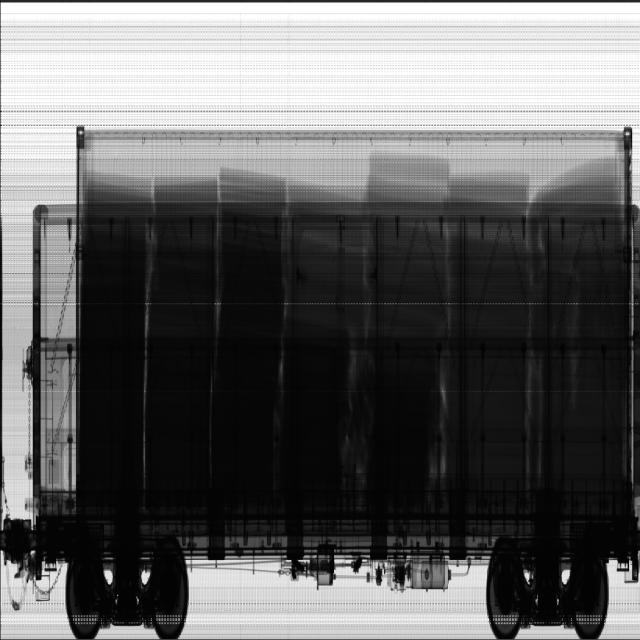clothes: (80, 157, 628, 509)
